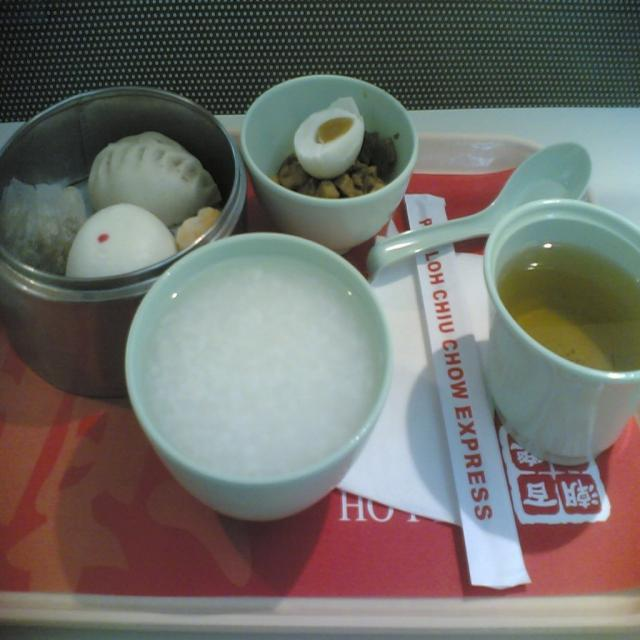Tea: (498, 241, 640, 373)
